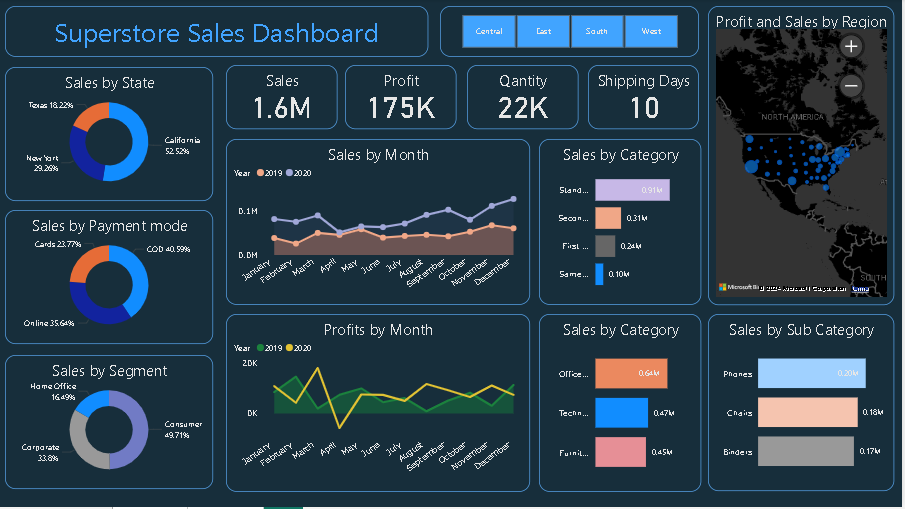

The page's visual inventory and layout, read from the dashboard file:
{"tool":"powerbi","page":{"name":"Page 1","canvas":[1280,720],"ordinal":0},"visuals":[{"type":"barChart","title":"Sales by Category","fields":{"Category":["SuperStore_Sales_Dataset.Category"],"Y":["Sum(SuperStore_Sales_Dataset.Sales)"]},"box":[766.8,446.5,229.6,252.3],"z":0},{"type":"barChart","title":"Sales by Sub Category","fields":{"Y":["Sum(SuperStore_Sales_Dataset.Sales)"],"Category":["SuperStore_Sales_Dataset.Sub-Category"]},"box":[1006.3,446.5,263.6,250.9],"z":1000},{"type":"map","title":"Profit and Sales by Region","fields":{"Category":["SuperStore_Sales_Dataset.State"],"Size":["Sum(SuperStore_Sales_Dataset.Sales)"]},"box":[1006.3,9.9,263.6,423.8],"z":2000},{"type":"areaChart","title":"Sales by Month ","fields":{"Y":["Sum(SuperStore_Sales_Dataset.Sales)"],"Category":["SuperStore_Sales_Dataset.Order Date.Variation.Date Hierarchy.Month","SuperStore_Sales_Dataset.Order Date.Variation.Date Hierarchy.Day"],"Series":["SuperStore_Sales_Dataset.Order Date.Variation.Date Hierarchy.Year"]},"box":[323.1,198.4,430.9,235.3],"z":3000},{"type":"barChart","title":"Sales by Category","fields":{"Y":["Sum(SuperStore_Sales_Dataset.Sales)"],"Category":["SuperStore_Sales_Dataset.Ship Mode"]},"box":[766.8,198.4,229.6,235.3],"z":4000},{"type":"areaChart","title":"Profits by Month ","fields":{"Series":["SuperStore_Sales_Dataset.Order Date.Variation.Date Hierarchy.Year"],"Y":["Sum(SuperStore_Sales_Dataset.Profit)"],"Category":["SuperStore_Sales_Dataset.Order Date.Variation.Date Hierarchy.Month"]},"box":[323.1,446.5,430.9,252.3],"z":5000},{"type":"donutChart","title":"Sales by State","fields":{"Y":["Sum(SuperStore_Sales_Dataset.Sales)"],"Category":["SuperStore_Sales_Dataset.State"]},"box":[9.9,96.4,294.8,189.9],"z":6000},{"type":"donutChart","title":"Sales by Payment mode","fields":{"Y":["Sum(SuperStore_Sales_Dataset.Sales)"],"Category":["SuperStore_Sales_Dataset.Payment Mode"]},"box":[9.9,299.1,294.8,189.9],"z":7000},{"type":"donutChart","title":"Sales by Segment","fields":{"Y":["Sum(SuperStore_Sales_Dataset.Sales)"],"Category":["SuperStore_Sales_Dataset.Segment"]},"box":[9.9,504.6,294.8,189.9],"z":8000},{"type":"card","title":"Sales","fields":{"Values":["Sum(SuperStore_Sales_Dataset.Sales)"]},"box":[323.1,93.5,158,90.7],"z":9000},{"type":"card","title":"Profit","fields":{"Values":["Sum(SuperStore_Sales_Dataset.Profit)"]},"box":[491.8,93.5,158,90.7],"z":10000},{"type":"card","title":"Qantity","fields":{"Values":["Sum(SuperStore_Sales_Dataset.Quantity)"]},"box":[664.7,93.5,158,90.7],"z":11000},{"type":"card","title":"Shipping Days","fields":{"Values":["Avg(SuperStore_Sales_Dataset.Avg_ship)"]},"box":[836.2,93.5,157.3,90.7],"z":12000},{"type":"slicer","fields":{"Values":["SuperStore_Sales_Dataset.Region"]},"box":[626.5,9.9,367.1,72.3],"z":13000},{"type":"textbox","box":[9.9,9.9,599.5,72.3],"z":14000}]}

Visuals, with their boxes in screenshot pixels (x1, y1, x2, y2), scaled from the page's 1280x720 canvas onto the 905x509 screenshot:
"Sales by Category" barChart: l=542, t=316, r=704, b=494
"Sales by Sub Category" barChart: l=711, t=316, r=898, b=493
"Profit and Sales by Region" map: l=711, t=7, r=898, b=307
"Sales by Month " areaChart: l=228, t=140, r=533, b=307
"Sales by Category" barChart: l=542, t=140, r=704, b=307
"Profits by Month " areaChart: l=228, t=316, r=533, b=494
"Sales by State" donutChart: l=7, t=68, r=215, b=202
"Sales by Payment mode" donutChart: l=7, t=211, r=215, b=346
"Sales by Segment" donutChart: l=7, t=357, r=215, b=491
"Sales" card: l=228, t=66, r=340, b=130
"Profit" card: l=348, t=66, r=459, b=130
"Qantity" card: l=470, t=66, r=582, b=130
"Shipping Days" card: l=591, t=66, r=702, b=130
slicer - SuperStore_Sales_Dataset.Region: l=443, t=7, r=703, b=58
textbox: l=7, t=7, r=431, b=58
